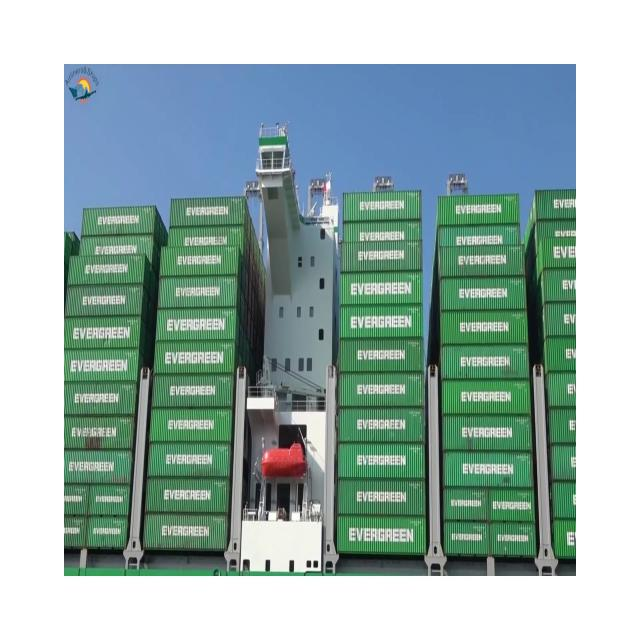OCR: (162, 340, 237, 379), (346, 303, 414, 338), (155, 479, 216, 511)
